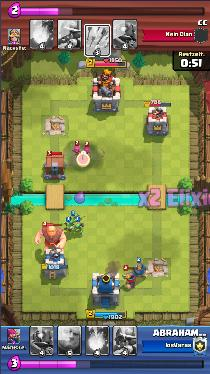ally_goblin_cage: (42, 153, 67, 181)
ally_knight: (133, 262, 149, 279)
ally_spear_goblin: (73, 223, 83, 234), (65, 220, 73, 233), (71, 214, 80, 224)
enemy_archer: (81, 146, 91, 158), (72, 147, 81, 157)
enemy_giant: (33, 225, 67, 251)
enemy_knight: (121, 271, 136, 290)
